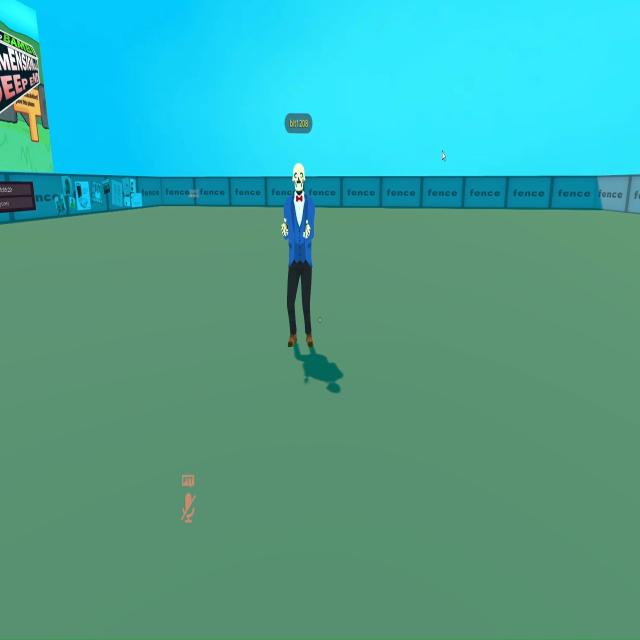human: (280, 154, 323, 360)
